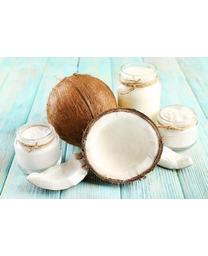coconut: (81, 107, 163, 185), (46, 74, 119, 147)
